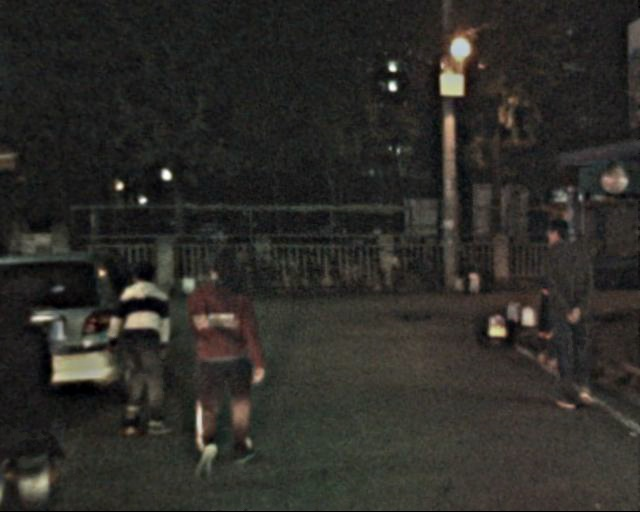person: (169, 243, 262, 483), (530, 209, 605, 425), (1, 257, 61, 512), (110, 256, 184, 441)
